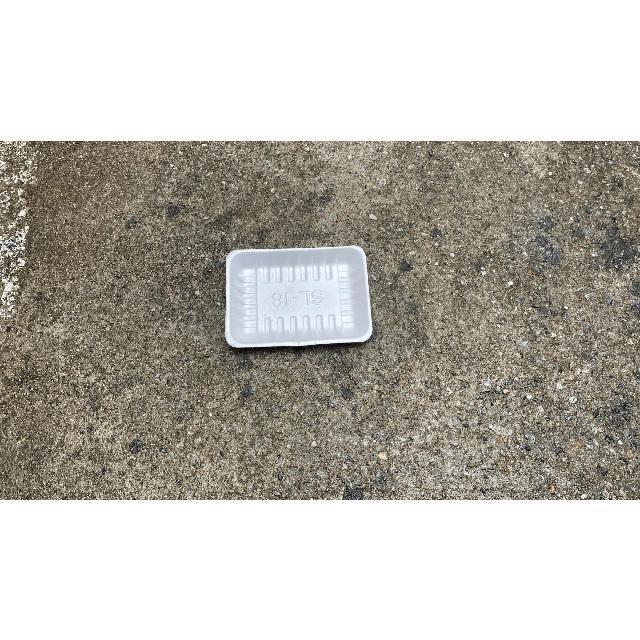Plastico descartable: (225, 246, 375, 352)
